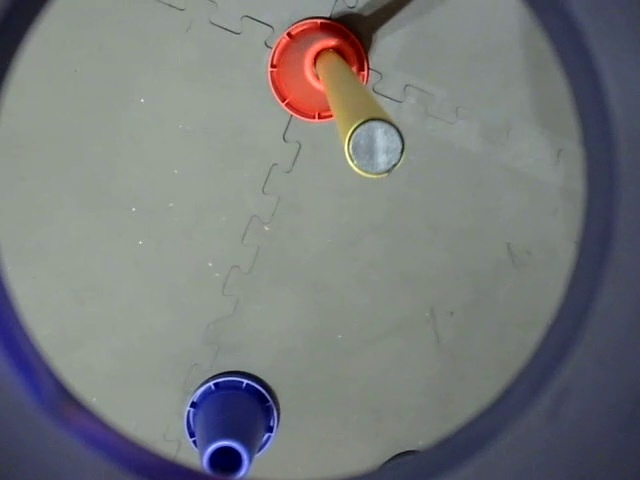tip: (338, 107, 411, 182)
